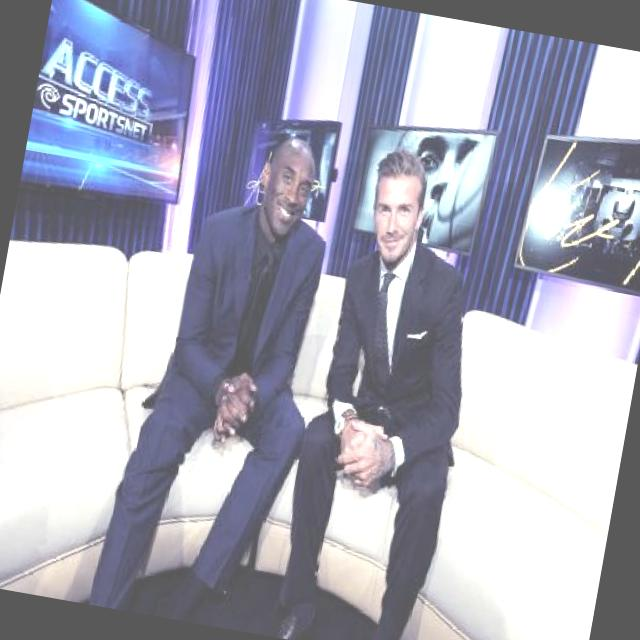Person: (98, 85, 352, 632), (263, 127, 532, 640)
